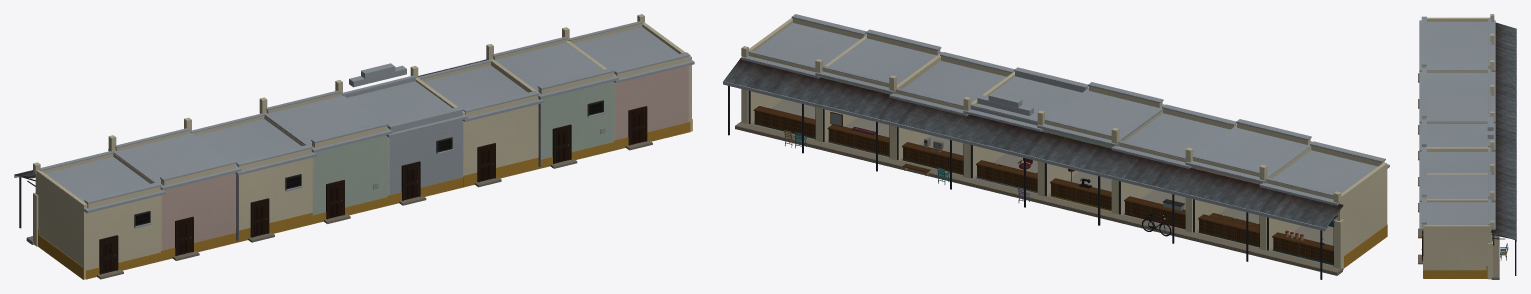
The model's file is bazaar_row.glb.
3 renders of one model, left to right at view 1: azimuth 30°, elevation 25°; view 2: azimuth 150°, elevation 25°; view 3: azimuth 270°, elevation 25°, orthographic. The views are drawn at different scales.
Visible parts, largest first — view 1: hb_main, hb_props; view 2: hb_main, hb_tin, hb_props; view 3: hb_main, hb_tin, hb_props.
Boxes of the visible parts, x1,y1,x2,y2 form: hb_main: (14, 14, 694, 279); hb_props: (19, 98, 644, 270); hb_main: (723, 14, 1389, 275); hb_tin: (723, 58, 1343, 228); hb_props: (728, 86, 1338, 279); hb_main: (1418, 14, 1516, 279); hb_tin: (1491, 22, 1516, 240); hb_props: (1421, 230, 1516, 275).
Size of the model in its own units: 36.6 by 5.32 by 7.26.
Materials: 3 (3 with a texture image).
